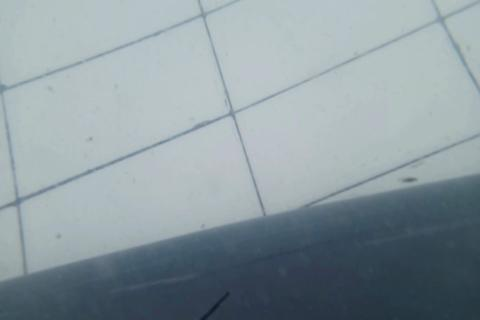keretakan: (200, 290, 231, 320)
